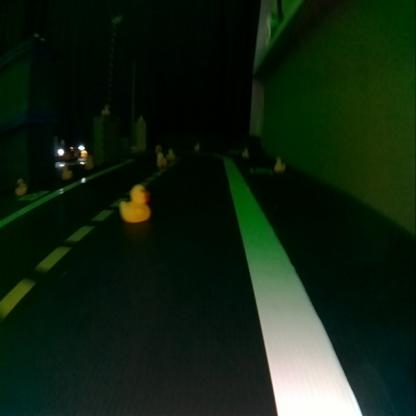Duckie: (119, 184, 149, 222), (275, 157, 284, 171), (62, 165, 72, 176), (157, 155, 165, 166)
